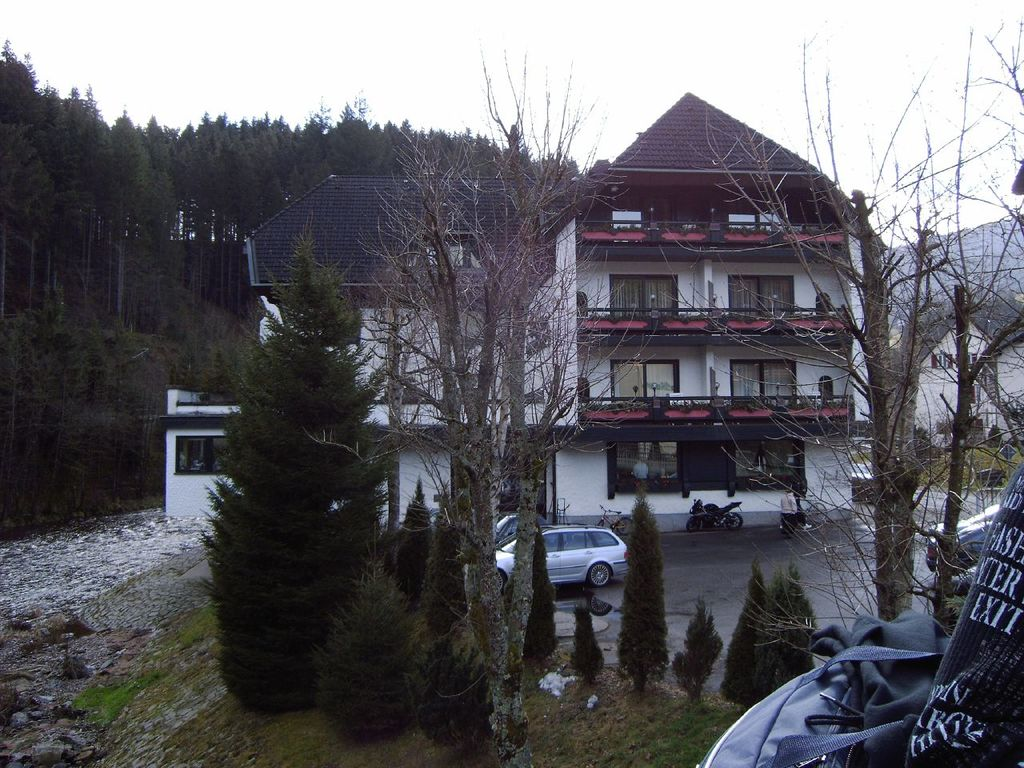Car: (482, 522, 640, 603)
